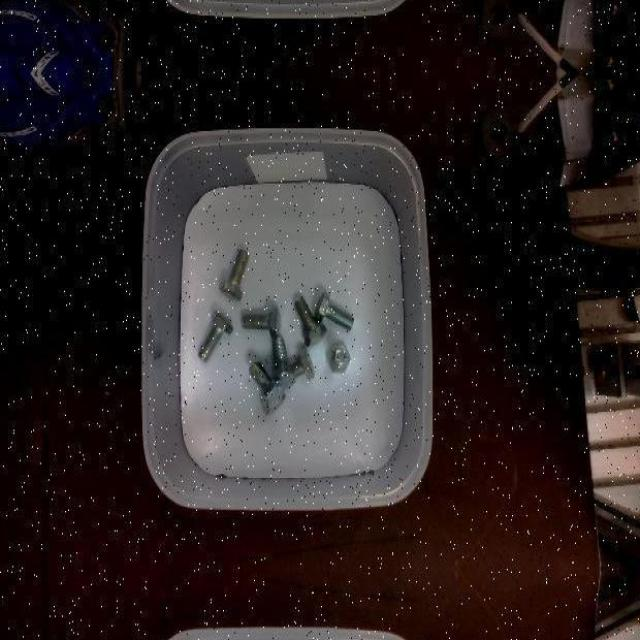screw: (197, 309, 233, 362), (249, 360, 286, 406), (294, 297, 327, 348), (314, 290, 354, 330), (219, 248, 249, 301), (241, 304, 282, 338), (327, 341, 351, 372)
